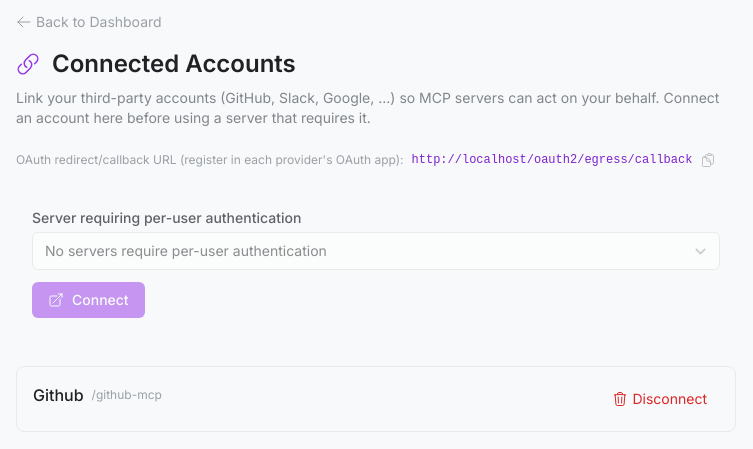
Test: ConnectedAccountsPage › disconnects and refreshes
Click the button with aria-label "disconnect github": (660, 399) x1=600 y1=383 x2=719 y2=415
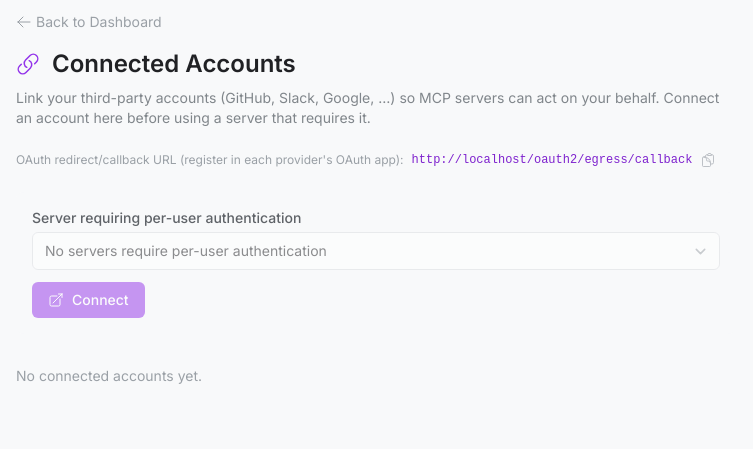
Check: the text "No connected accounts yet." is shown, box x1=16 y1=367 x2=202 y2=384
